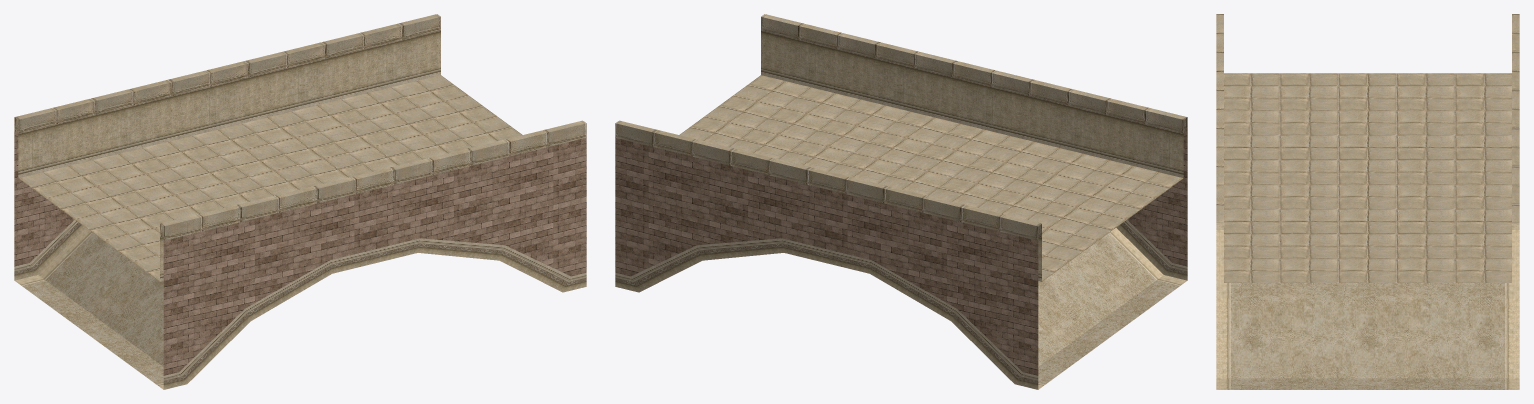
The model's file is thm_nboo_imprv_street_bridge_s01_l1.fbx.
3 views of the same model, side by side, from view 1: azimuth 30°, elevation 25°; view 2: azimuth 150°, elevation 25°; view 3: azimuth 270°, elevation 25° (orthographic).
Parts seen in each view (by area): view 1: mesh_node; view 2: mesh_node; view 3: mesh_node.
Boxes of the visible parts, box(x1,y1,x2,y2) form: mesh_node: box(14, 14, 586, 389); mesh_node: box(615, 14, 1187, 389); mesh_node: box(1216, 14, 1519, 389).
Bounding box in the file's own units: 8.5 × 3.14 × 5.2.
Materials: 4 (4 with a texture image).
